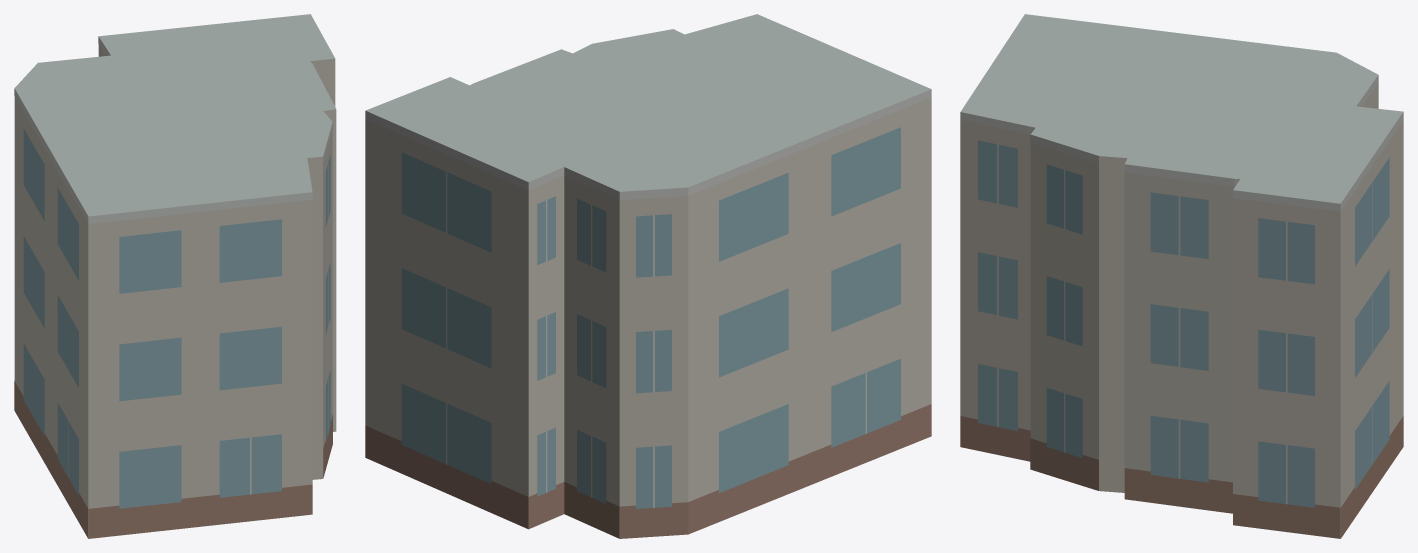
File: survey-upis-32924147.glb
3 views of the same model, side by side, from view 1: azimuth 30°, elevation 25°; view 2: azimuth 150°, elevation 25°; view 3: azimuth 270°, elevation 25° (orthographic). The views are drawn at different scales.
Parts seen in each view (by area): view 1: survey-upis-32924147.tmp; view 2: survey-upis-32924147.tmp; view 3: survey-upis-32924147.tmp.
Part boxes in pixels (bbox=[...]): survey-upis-32924147.tmp: bbox=[14, 14, 336, 538]; survey-upis-32924147.tmp: bbox=[365, 14, 931, 538]; survey-upis-32924147.tmp: bbox=[960, 14, 1403, 538].
Size of the model in its own units: 12.52 by 10.3 by 12.36.
